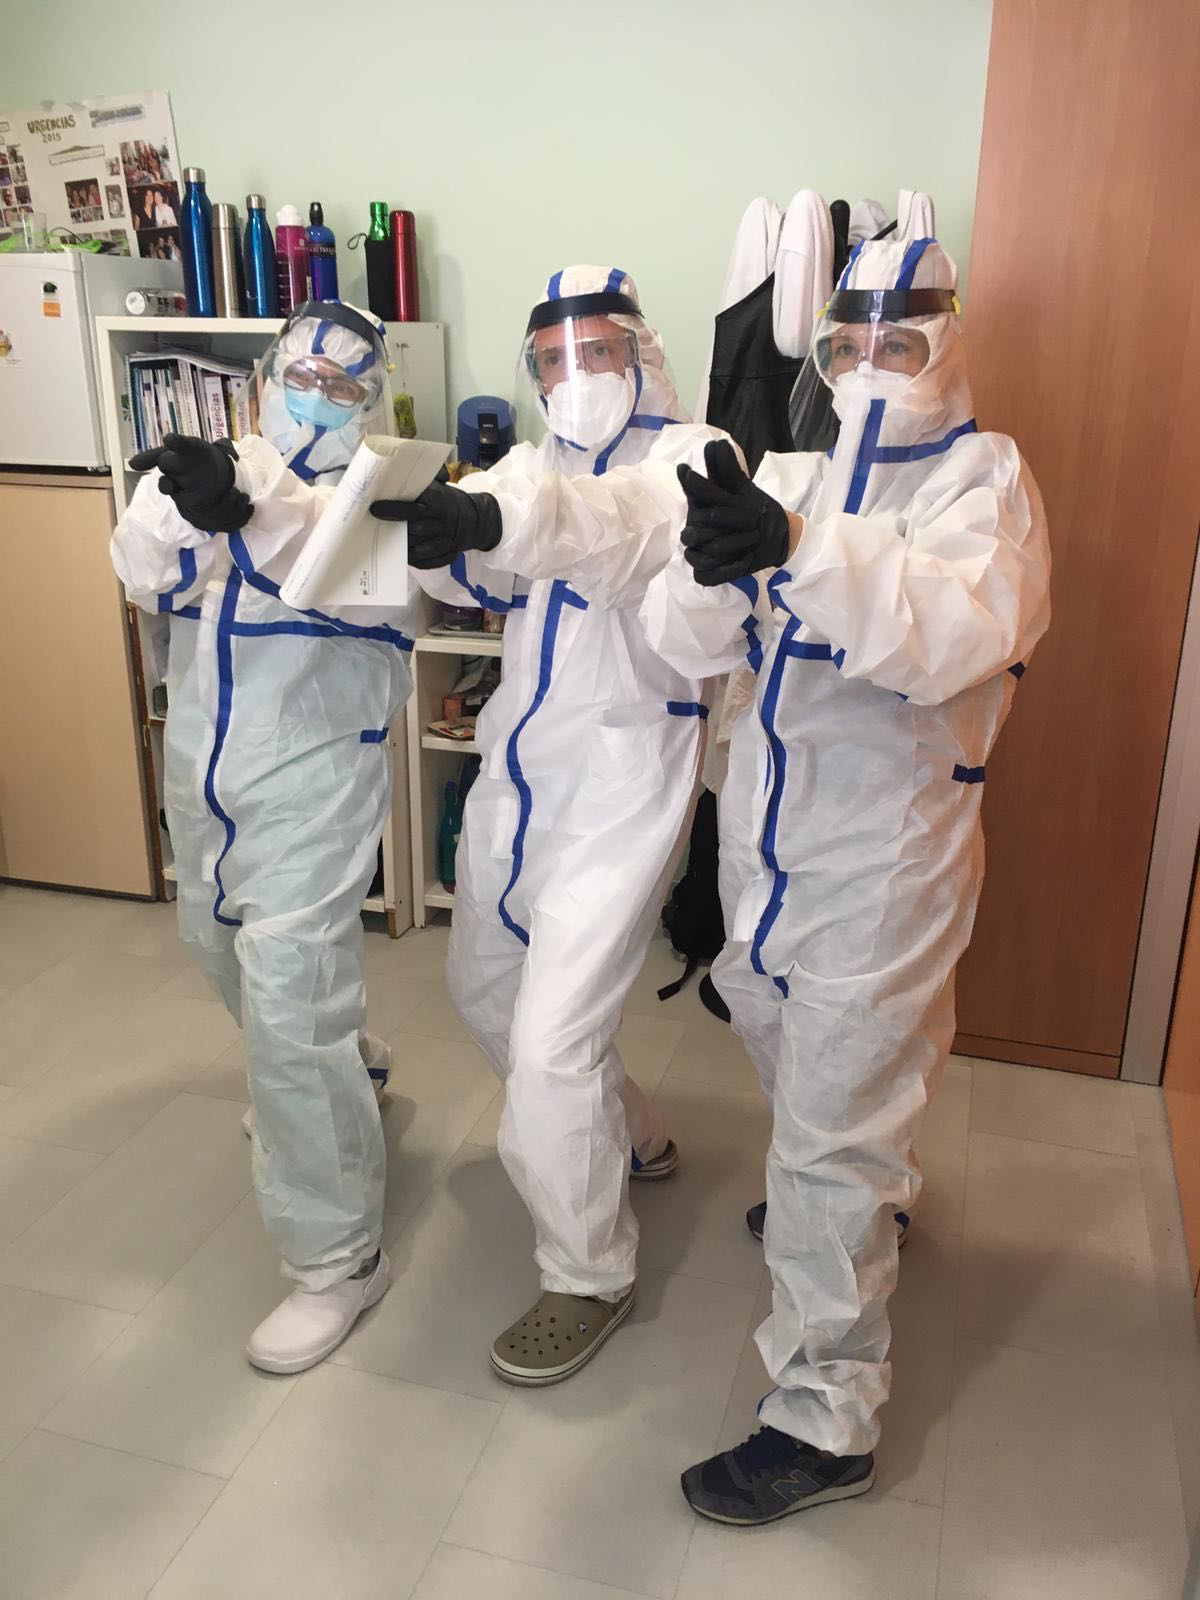Coverall: (648, 223, 1052, 1455), (414, 264, 752, 1299), (106, 299, 424, 1281)
Face_Shield: (787, 284, 977, 464), (235, 299, 404, 472), (506, 301, 670, 467)
Gloves: (675, 438, 794, 588), (123, 421, 267, 532), (363, 489, 514, 569)
Goggles: (269, 346, 384, 411), (819, 327, 936, 379), (528, 333, 640, 377)
with_mask: (550, 371, 641, 447), (835, 362, 926, 418), (285, 388, 359, 430)
